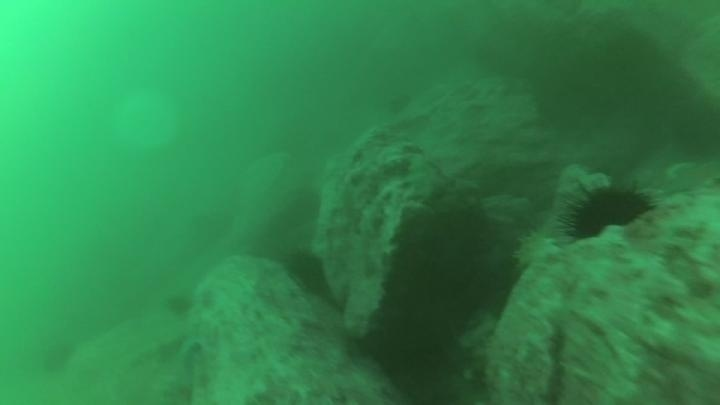echinus: (559, 180, 656, 244), (283, 247, 329, 295), (38, 336, 78, 376), (163, 290, 196, 319), (384, 92, 412, 116)
holothurian: (510, 226, 562, 278), (455, 305, 504, 354)
